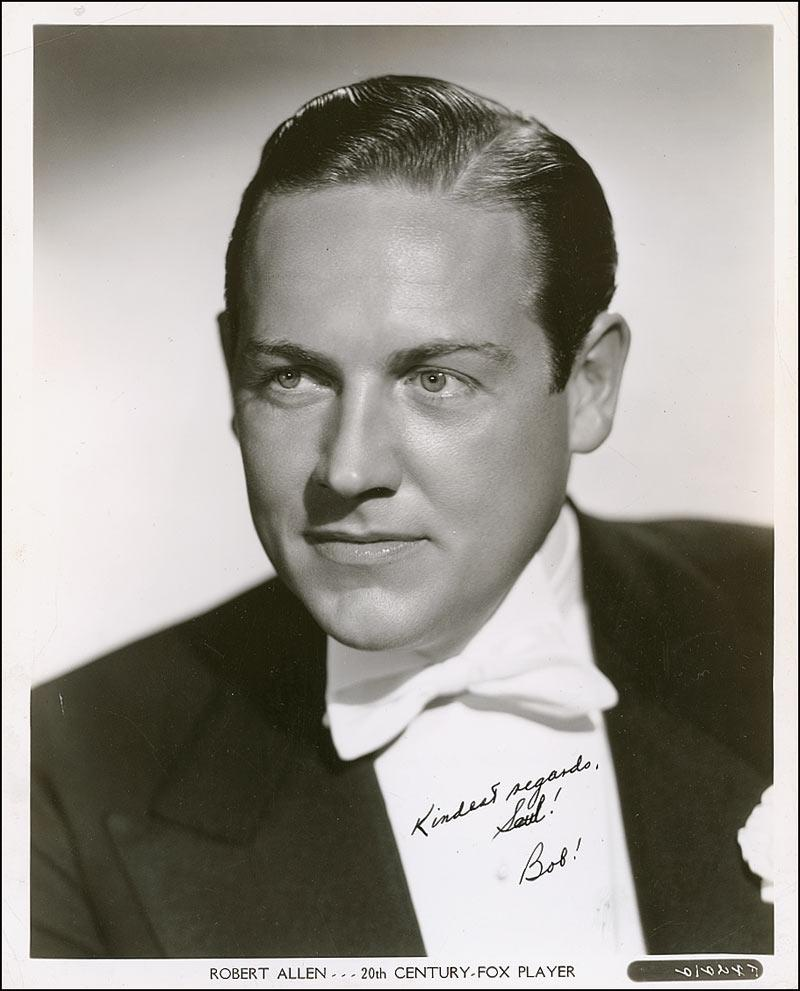bad: (161, 247, 546, 632)
